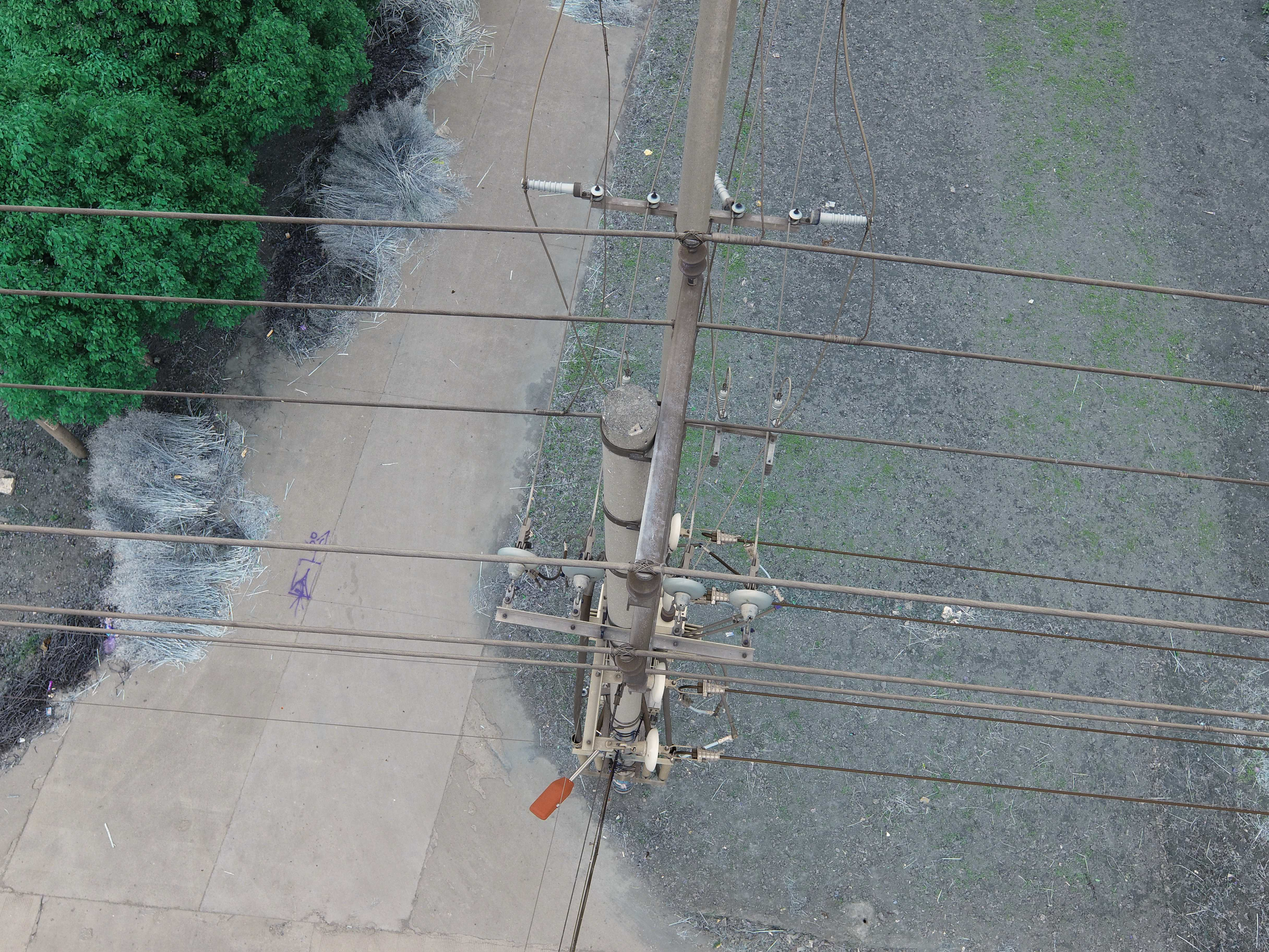severe_soiling_no_discharge_whole: (713, 409, 729, 429), (769, 419, 783, 437)
